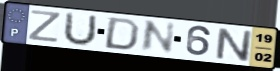6: (185, 25, 213, 59)
D: (102, 16, 142, 52)
N: (215, 26, 253, 64), (138, 19, 177, 54)
U: (60, 11, 98, 48)
Z: (26, 9, 63, 45)
